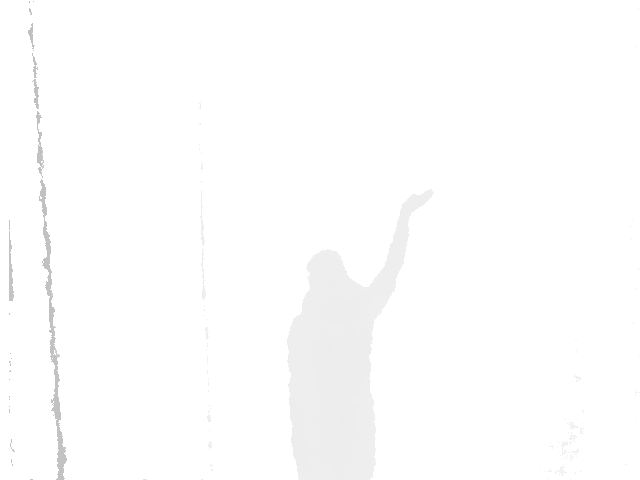hand: (395, 188, 438, 211)
head: (306, 248, 348, 289)
person: (286, 190, 434, 480)
